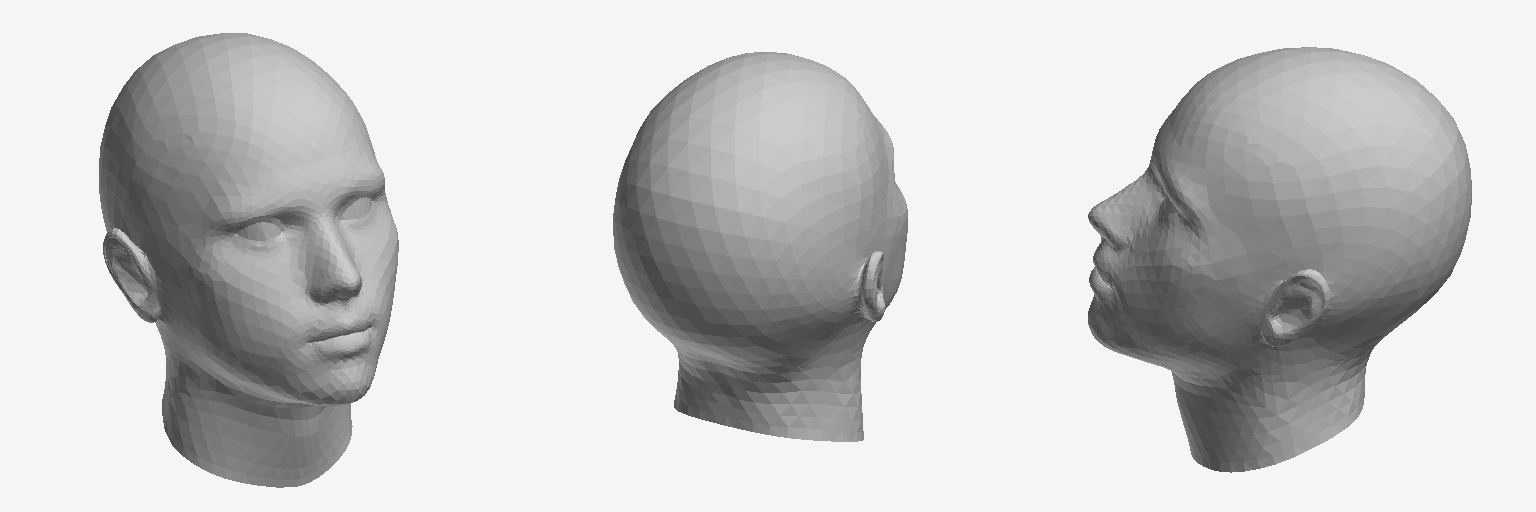
The model's file is __skarllet_noEyeLips_singleEyeLip_lower_filled.obj.
3 views of the same model, side by side, from view 1: azimuth 30°, elevation 25°; view 2: azimuth 150°, elevation 25°; view 3: azimuth 270°, elevation 25° (orthographic).
Bounding box in the file's own units: 192 × 281 × 248.